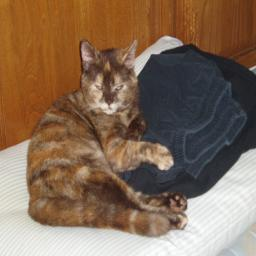catnose: (104, 97, 114, 106)
